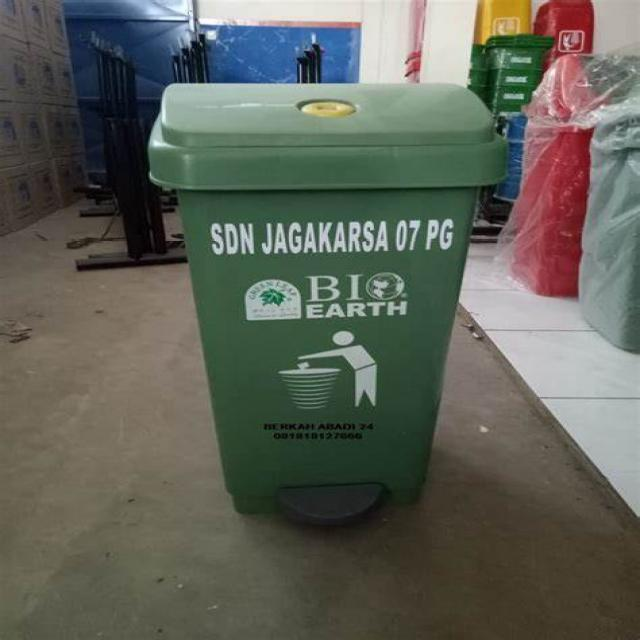garbage container: (136, 64, 523, 522)
